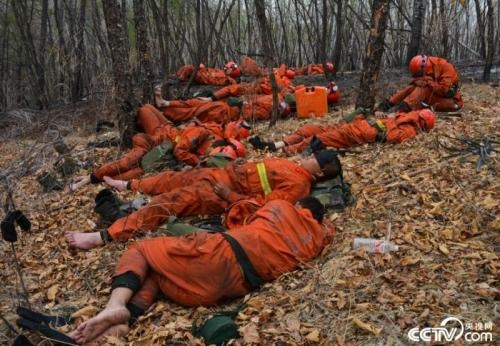falling: (98, 99, 237, 178)
